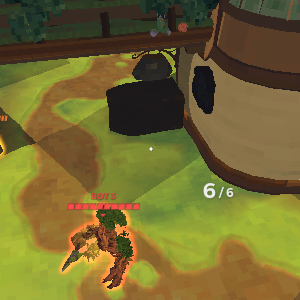model: (58, 210, 146, 288)
